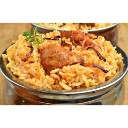briyani: (7, 33, 123, 80)
